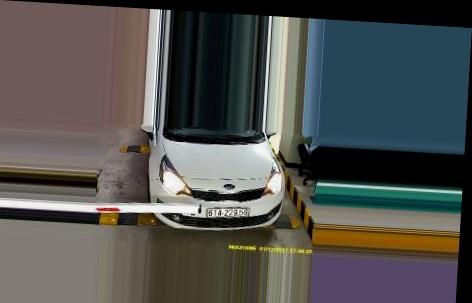License_Plate: (207, 205, 251, 222)
